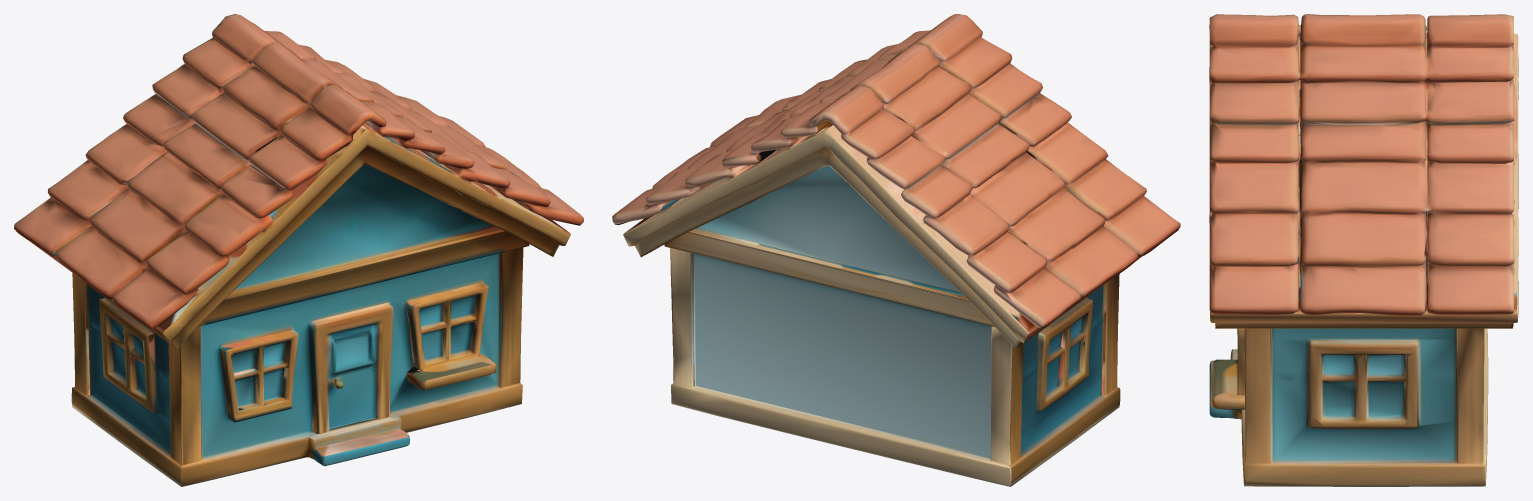
The model's file is rumah3.glb.
The picture shows the model from 3 angles, left to right: view 1: azimuth 30°, elevation 25°; view 2: azimuth 150°, elevation 25°; view 3: azimuth 270°, elevation 25°; orthographic projection. The views are drawn at different scales.
Visible parts, largest first — view 1: House; view 2: House; view 3: House.
Boxes of the visible parts, x1,y1,x2,y2 form: House: (14, 14, 583, 486); House: (612, 14, 1180, 486); House: (1209, 14, 1518, 486).
Bounding box in the file's own units: 2.67 × 2 × 1.47.
Materials: 1 (1 with a texture image).
